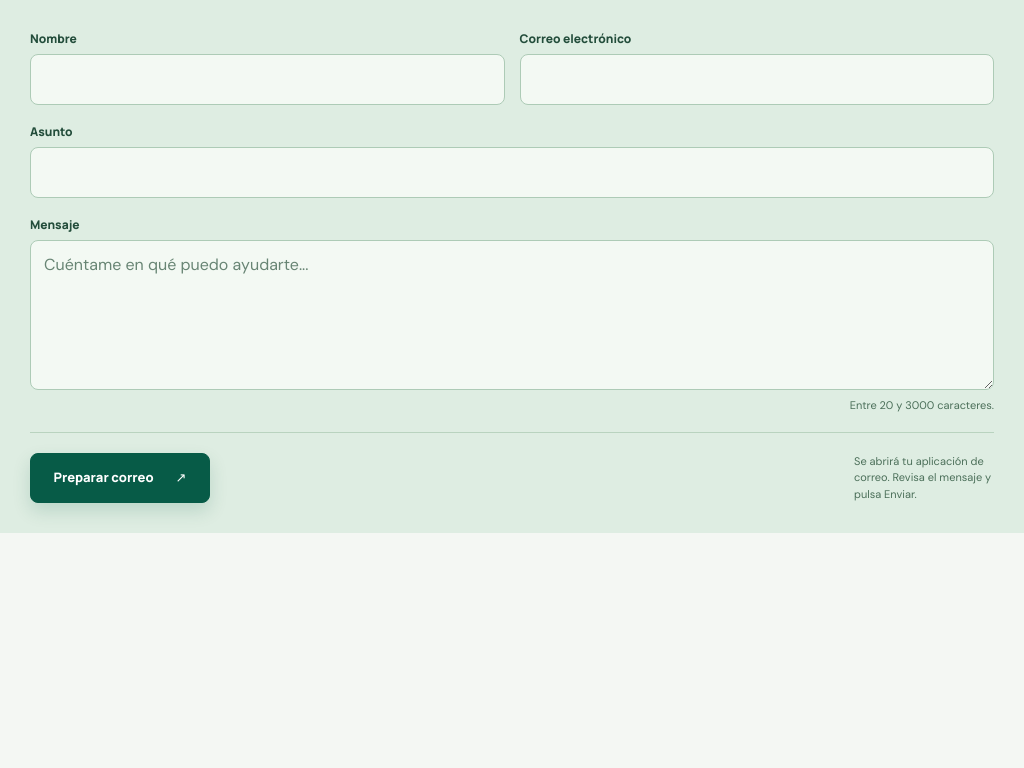
Test: ContactForm › prepares a draft without claiming it has been sent
The image size is (1024, 768).
In the field with id "contact-name": (267, 79) left=30, top=54, right=504, bottom=105, type "Ana"
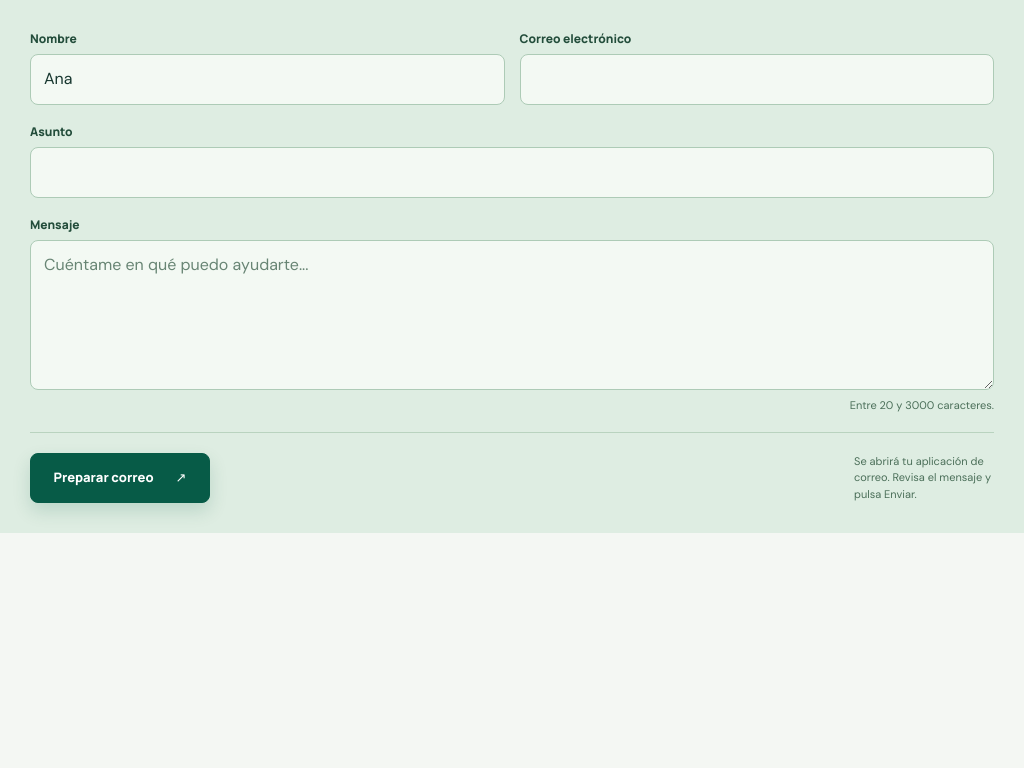
In the field with id "contact-email": (757, 79) left=520, top=54, right=994, bottom=105, type "ana@example.com"
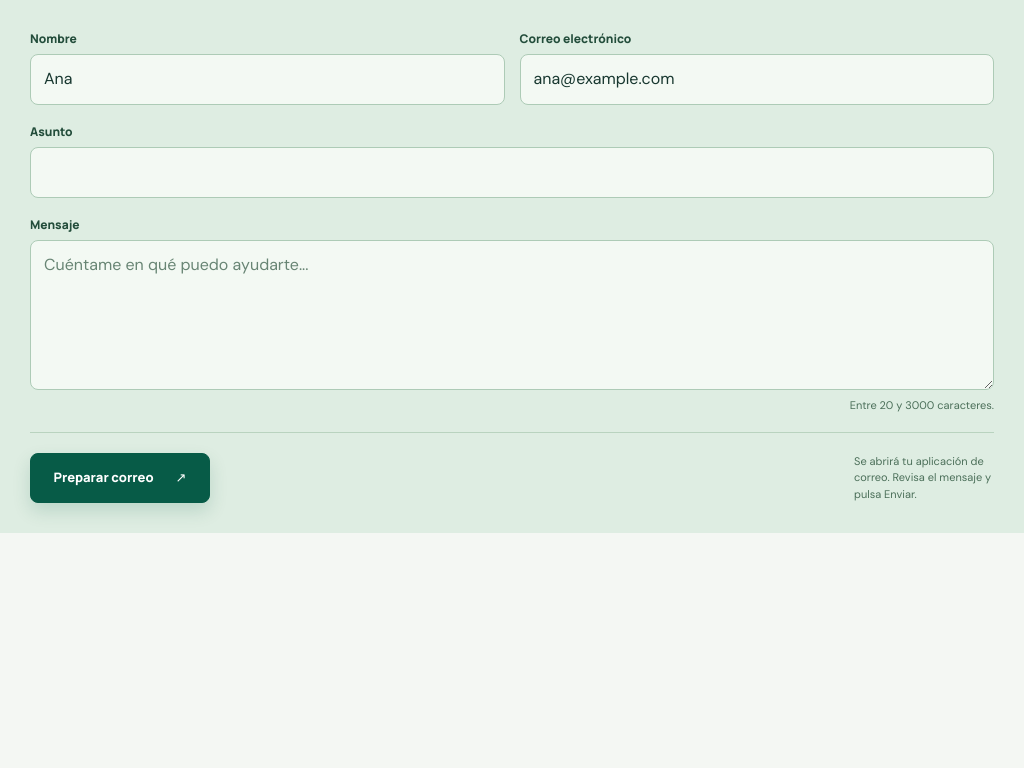
In the field with id "contact-subject": (512, 172) left=30, top=147, right=994, bottom=198, type "Trabajo"
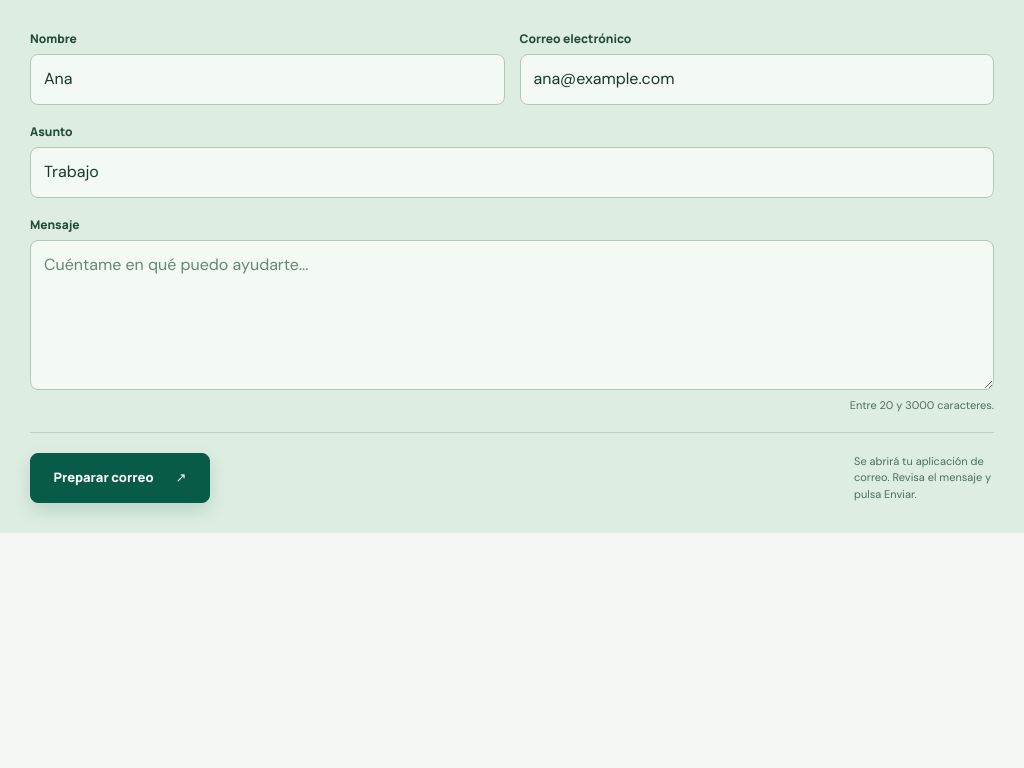
In the text box with id "contact-message": (512, 315) left=30, top=240, right=994, bottom=390, type "Me gustaría hablar sobre una oportunidad de trabajo."
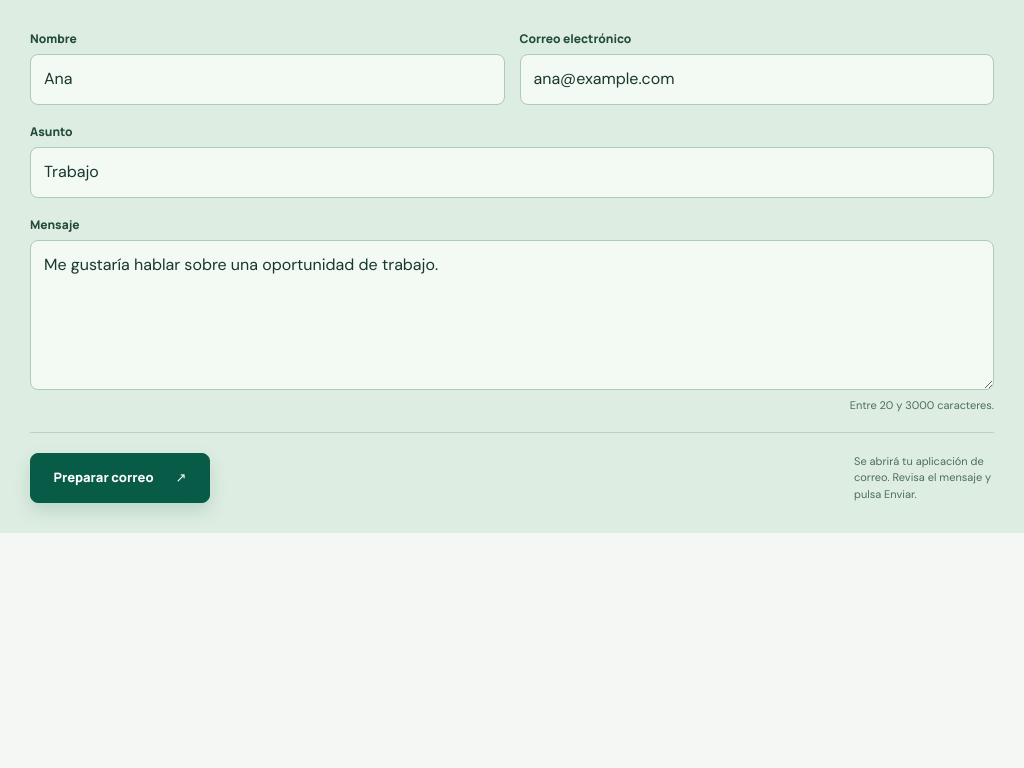
Submit the form
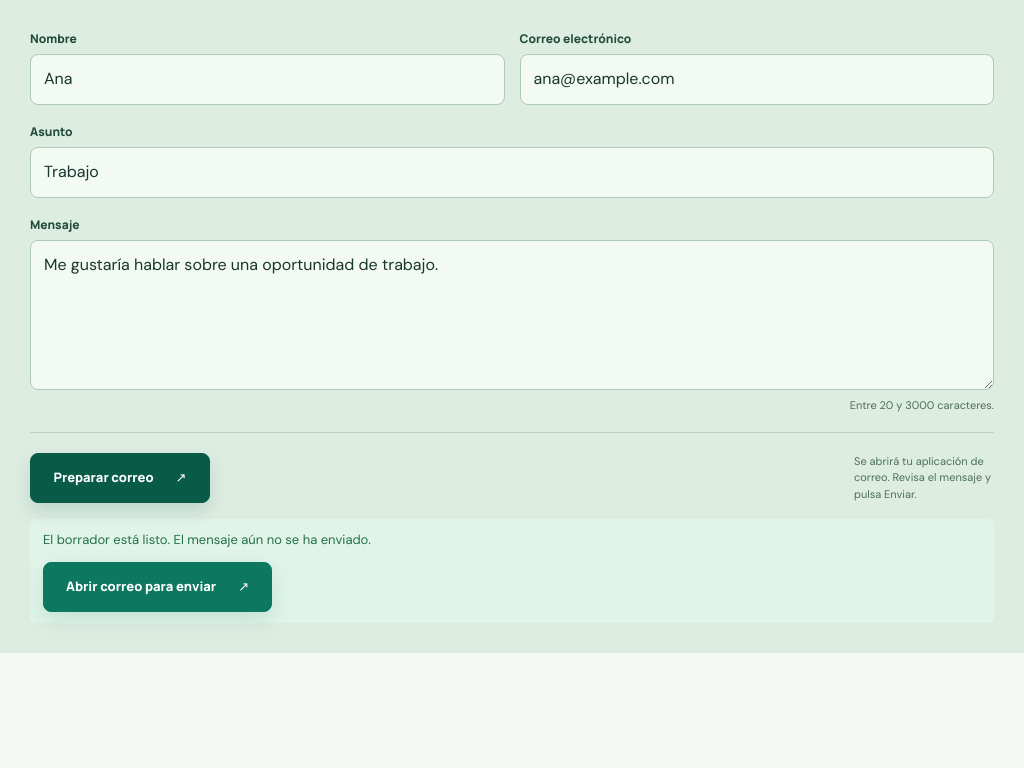
Check: the message shows "El borrador está listo", box left=43, top=531, right=371, bottom=548
Check: the message shows "aún no se ha enviado", box left=43, top=531, right=371, bottom=548
